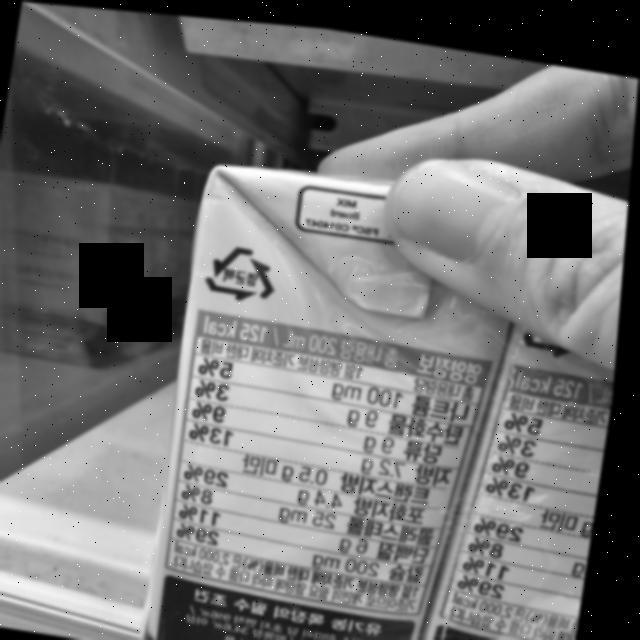SterilizedPack: (203, 233, 287, 302)
